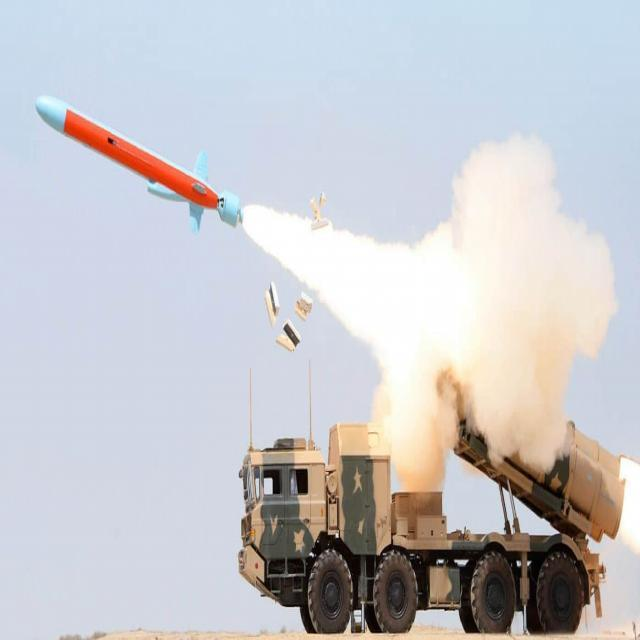missile: (34, 82, 244, 245)
